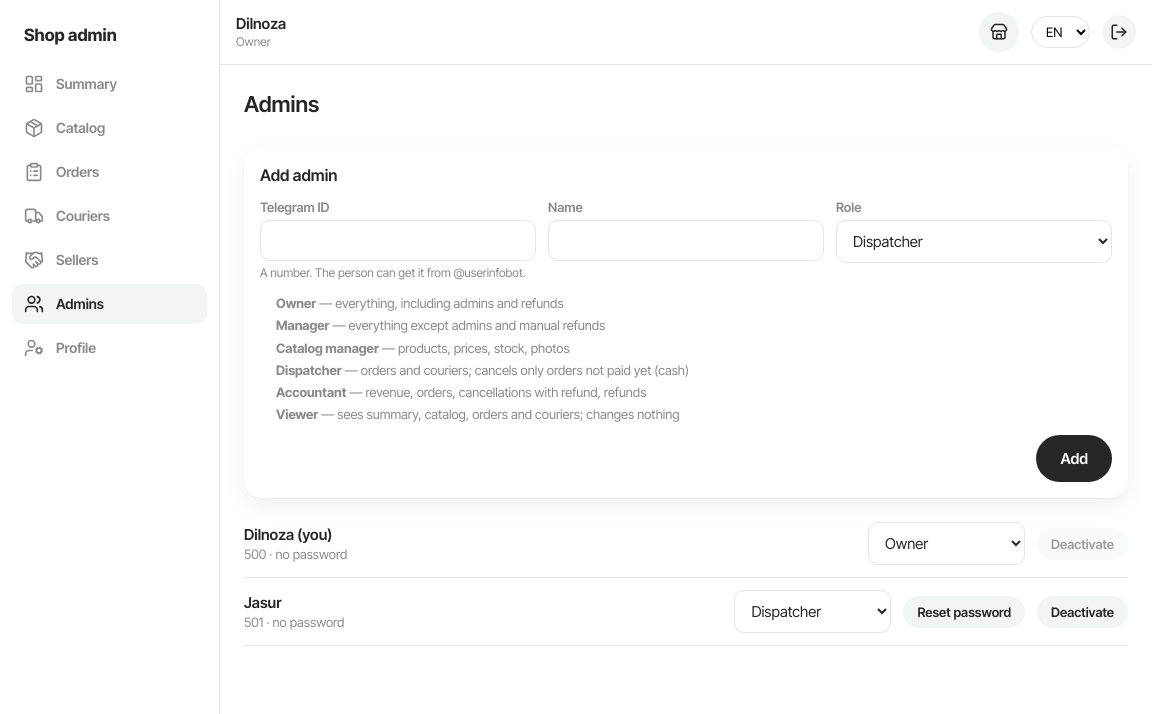
Scenario: permissions in the panel › lets an owner reset another admin and shows the temporary password once
The width and height of the screenshot is (1152, 714).
Click the button "Reset password" at (964, 612), box left=903, top=596, right=1025, bottom=628
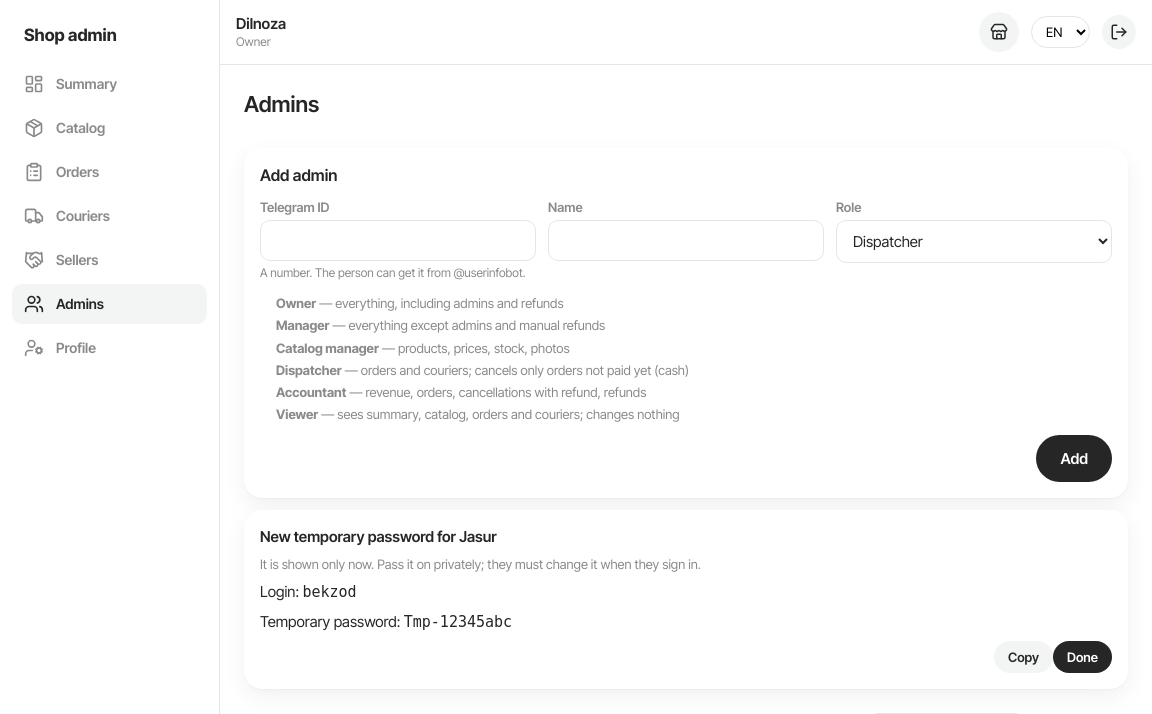
Expected: the text "Tmp-12345abc" is shown, left=404, top=614, right=512, bottom=632
Click the button "Done" at (1082, 658), box left=1053, top=642, right=1112, bottom=674
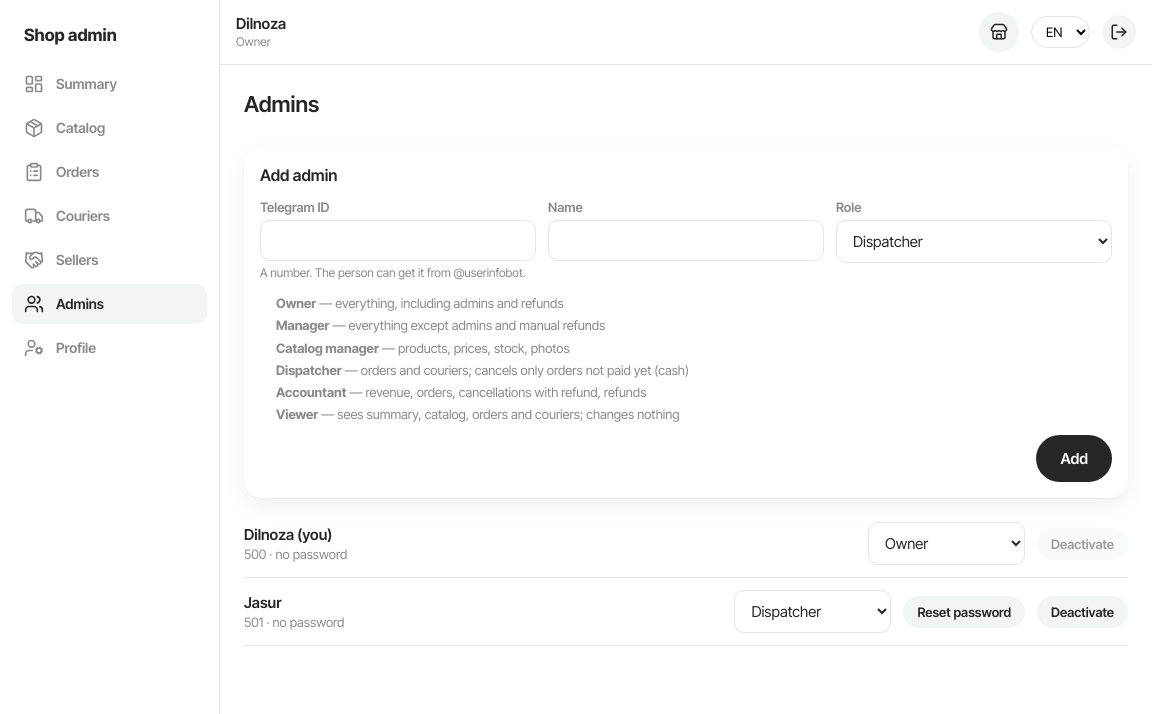
Expected: the text "Tmp-12345abc" is gone
